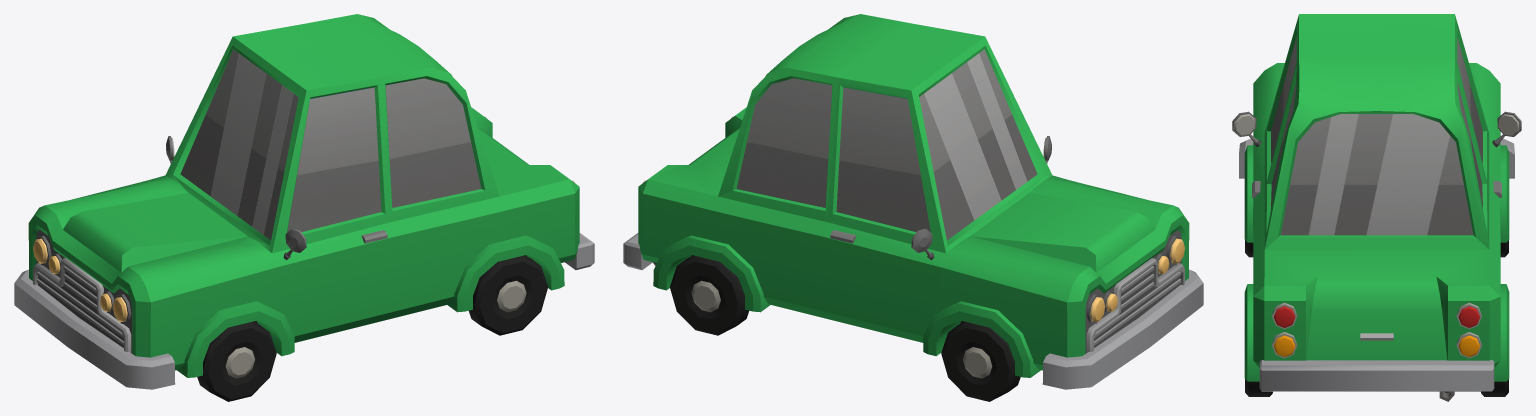
The model's file is Car_8_X.gltf.
The picture shows the model from 3 angles, left to right: view 1: azimuth 30°, elevation 25°; view 2: azimuth 150°, elevation 25°; view 3: azimuth 270°, elevation 25°; orthographic projection. The views are drawn at different scales.
Parts seen in each view (by area): view 1: Car_8_X, RL, FL; view 2: Car_8_X, RR, FR; view 3: Car_8_X, RL, RR.
Boxes of the visible parts, x1,y1,x2,y2 form: Car_8_X: [14, 14, 594, 389]; RL: [469, 255, 547, 335]; FL: [197, 321, 276, 401]; Car_8_X: [623, 14, 1203, 389]; RR: [670, 255, 748, 335]; FR: [941, 321, 1020, 401]; Car_8_X: [1232, 14, 1521, 401]; RL: [1245, 379, 1272, 396]; RR: [1481, 379, 1508, 396].
Bounding box in the file's own units: 3.38 × 1.84 × 1.7.
Materials: 3 (3 with a texture image).
